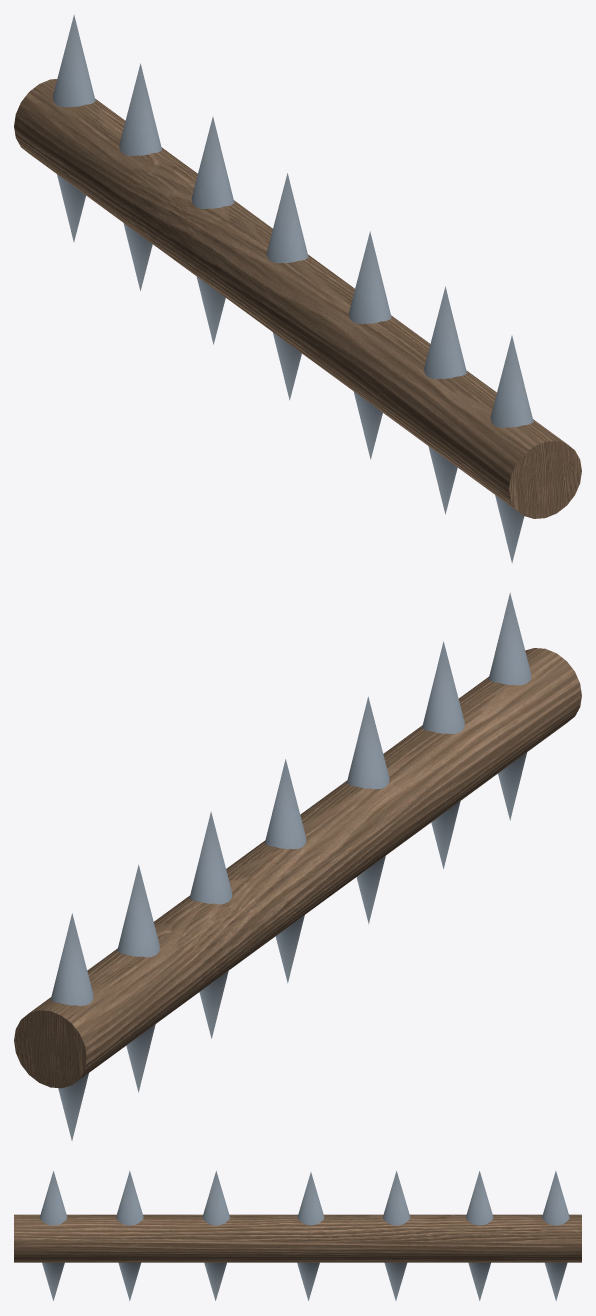
The model's file is Spike Trap.fbx.
The picture shows the model from 3 angles, top to bottom: view 1: azimuth 30°, elevation 25°; view 2: azimuth 150°, elevation 25°; view 3: azimuth 270°, elevation 25°; orthographic projection. The views are drawn at different scales.
Parts seen in each view (by area): view 1: SpikeTrapPillar, SpikeTopLeft2, SpikeTopRight2, SpikeTopMiddle2, SpikeTopMiddle3, SpikeTopRight, SpikeTopLeft, SpikeTopMiddle, SpikeBotRight2, SpikeBotMiddle, SpikeBotMiddle2, SpikeBotLeft2 (+3 smaller); view 2: SpikeTrapPillar, SpikeTopMiddle2, SpikeTopMiddle3, SpikeTopLeft, SpikeTopLeft2, SpikeTopRight2, SpikeTopRight, SpikeTopMiddle, SpikeBotright, SpikeBotMiddle2, SpikeBotRight2, SpikeBotLeft (+3 smaller); view 3: SpikeTrapPillar, SpikeTopLeft2, SpikeTopRight, SpikeTopRight2, SpikeTopMiddle2, SpikeTopLeft, SpikeTopMiddle3, SpikeTopMiddle, SpikeBotLeft2, SpikeBotMiddle3, SpikeBotMiddle2, SpikeBotRight2 (+3 smaller).
Part boxes in pixels (x1,y1,x2,y2): SpikeTrapPillar: [14, 79, 581, 518]; SpikeTopLeft2: [424, 286, 466, 379]; SpikeTopRight2: [119, 63, 161, 155]; SpikeTopMiddle2: [348, 231, 391, 324]; SpikeTopMiddle3: [191, 116, 234, 208]; SpikeTopRight: [52, 14, 95, 107]; SpikeTopLeft: [490, 335, 533, 427]; SpikeTopMiddle: [267, 173, 308, 263]; SpikeBotRight2: [123, 223, 152, 291]; SpikeBotMiddle: [272, 332, 301, 400]; SpikeBotMiddle2: [353, 391, 382, 459]; SpikeBotLeft2: [428, 446, 457, 514]; SpikeTrapPillar: [14, 648, 581, 1088]; SpikeTopMiddle2: [346, 696, 389, 789]; SpikeTopMiddle3: [189, 811, 232, 904]; SpikeTopLeft: [488, 592, 531, 685]; SpikeTopLeft2: [422, 641, 464, 733]; SpikeTopRight2: [117, 864, 159, 957]; SpikeTopRight: [50, 913, 93, 1005]; SpikeTopMiddle: [264, 759, 306, 849]; SpikeBotright: [58, 1073, 88, 1140]; SpikeBotMiddle2: [356, 856, 385, 924]; SpikeBotRight2: [126, 1024, 155, 1092]; SpikeBotLeft: [498, 752, 526, 820]; SpikeTrapPillar: [14, 1214, 581, 1262]; SpikeTopLeft2: [116, 1170, 143, 1225]; SpikeTopRight: [542, 1171, 569, 1225]; SpikeTopRight2: [466, 1171, 493, 1225]; SpikeTopMiddle2: [202, 1171, 229, 1225]; SpikeTopLeft: [39, 1171, 67, 1225]; SpikeTopMiddle3: [383, 1171, 410, 1225]; SpikeTopMiddle: [297, 1172, 324, 1225]; SpikeBotLeft2: [118, 1262, 140, 1301]; SpikeBotMiddle3: [384, 1262, 407, 1300]; SpikeBotMiddle2: [204, 1262, 226, 1300]; SpikeBotRight2: [468, 1262, 490, 1300].
Size of the model in its own units: 0.6277 by 1.88 by 7.38.
2 materials, 2 textured.
